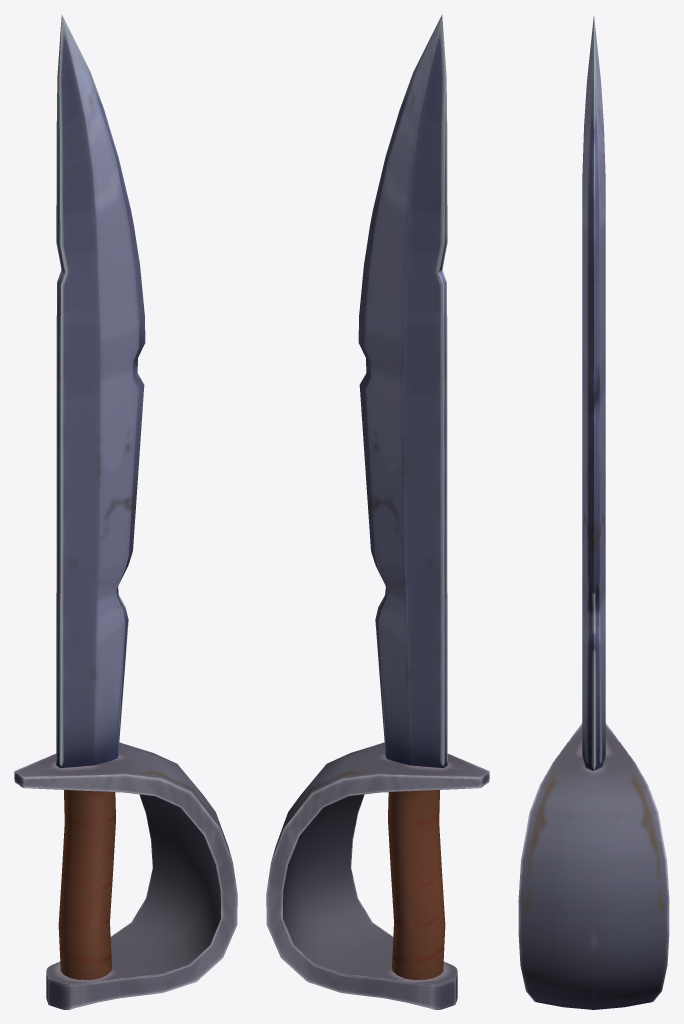
Rendered from SM_Sword.fbx.
The picture shows the model from 3 angles, left to right: view 1: azimuth 30°, elevation 25°; view 2: azimuth 150°, elevation 25°; view 3: azimuth 270°, elevation 25°; orthographic projection. The views are drawn at different scales.
Parts seen in each view (by area): view 1: SM_Sword_LOD0; view 2: SM_Sword_LOD0; view 3: SM_Sword_LOD0.
Boxes of the visible parts, x1=… form: SM_Sword_LOD0: x1=14, y1=14, x2=237, y2=1009; SM_Sword_LOD0: x1=266, y1=14, x2=489, y2=1009; SM_Sword_LOD0: x1=518, y1=16, x2=669, y2=1009.
Bounding box in the file's own units: 17.57 × 11.77 × 82.15.
Materials: 1 (1 with a texture image).
